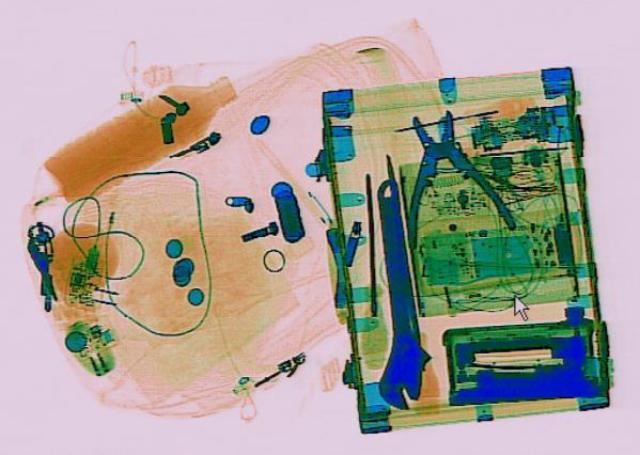Pliers: (372, 104, 516, 245)
Wrench: (350, 176, 436, 409)
